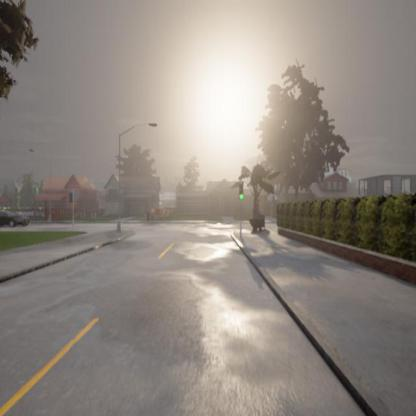traffic_light_green: (239, 183, 245, 201)
vehicle: (0, 208, 29, 227)
